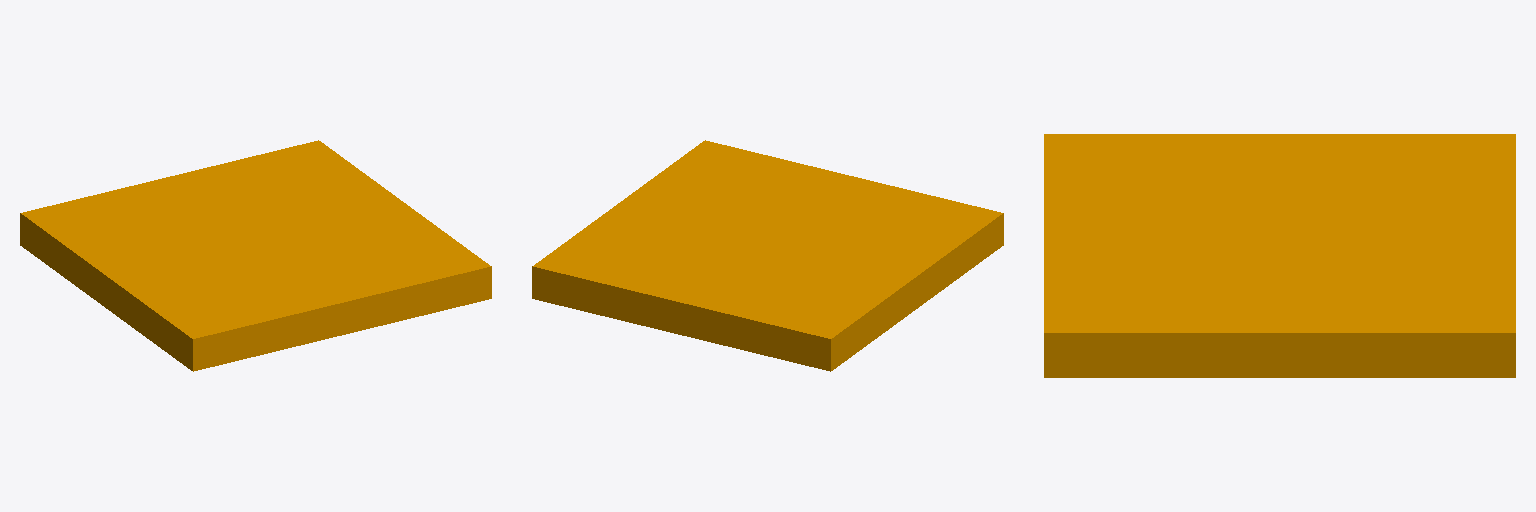
robot.urdf — apriltag_9_3611:
<robot name="apriltag_9_3611">

    <link name="apriltag_link_id9">
        <inertial>
            <origin xyz="0 0 0" rpy="0 0 0"/>
            <mass value="1.0"/>
            <inertia ixx="0.07461" ixy="0.0" ixz="0.0" iyy="0.5854" iyz="0.0" izz="0.02641"/>
        </inertial>
        <collision>
            <origin xyz="0 0 0" rpy="0 0 0"/>
            <geometry>
                <box size="0.2 0.2 0.1"/>
            </geometry>
        </collision>
        <visual>
            <origin xyz="0 0 0" rpy="0 0 0"/>
            <geometry>
                <mesh filename="package://apriltag_description/meshes/apriltag_9.dae"/>
            </geometry>
        </visual>
    </link>
    
    <gazebo reference="apriltag_link_id9">
        <kp>100000.0</kp>
        <kd>100000.0</kd>
        <mu1>0.1</mu1>
        <mu2>0.1</mu2>  
        <fdir1>1 0 0</fdir1>

           <!-- this tag may be unecessary if static is set to true
            (but using since may set static to false later)-->
        <gravity>0</gravity>
    </gazebo>

    <!-- Make sure that the reference="" attribute is not specified -->
    <gazebo>
        <static>true</static>
     
        
    </gazebo>
    

</robot>

--- Facts derived from the render (not from the file) ---
The picture shows the robot from 3 angles, left to right: view 1: azimuth 30°, elevation 25°; view 2: azimuth 150°, elevation 25°; view 3: azimuth 270°, elevation 25°; orthographic projection.
Robot: apriltag_9_3611 — 1 links, 0 joints (none); root link apriltag_link_id9; default pose: all joints at 0.
Visible links, largest first — view 1: apriltag_link_id9; view 2: apriltag_link_id9; view 3: apriltag_link_id9.
Link boxes in pixels (x1,y1,x2,y2): apriltag_link_id9: (20,140,491,371); apriltag_link_id9: (532,140,1003,371); apriltag_link_id9: (1044,134,1515,377).
Bounding box of the posed robot: 0.16 × 0.16 × 0.0166 m (x, y, z).
1 mesh visuals loaded from 1 distinct referenced files (1 Collada DAE).